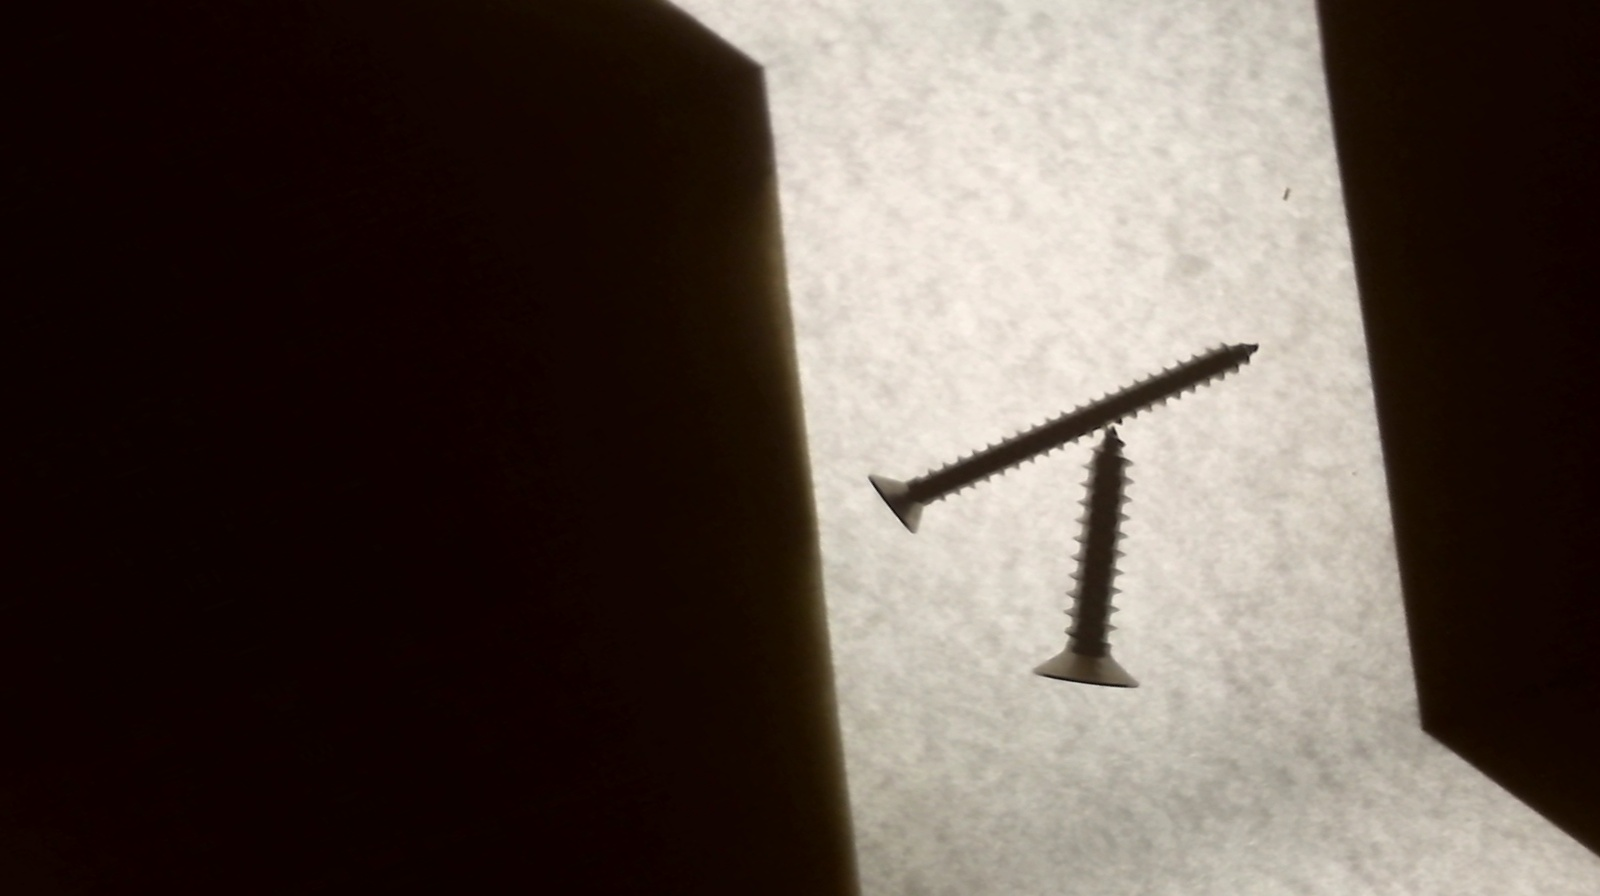S001: (912, 425, 1265, 719)
S002: (853, 327, 1301, 542)
